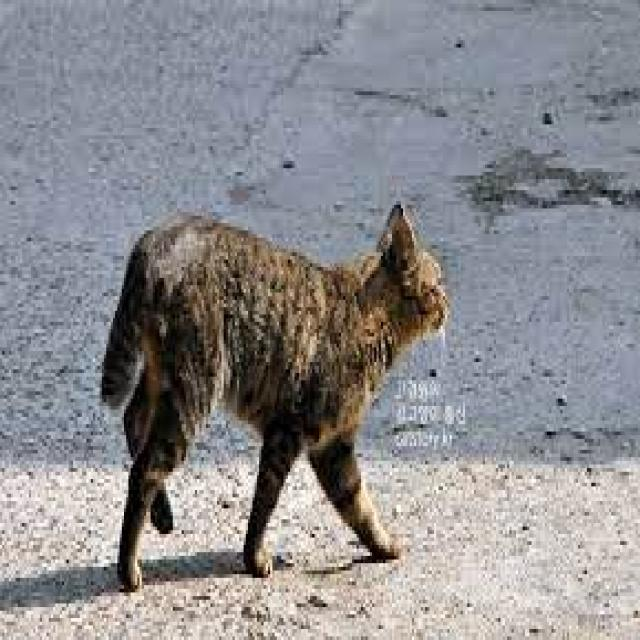cat: (79, 150, 474, 580)
